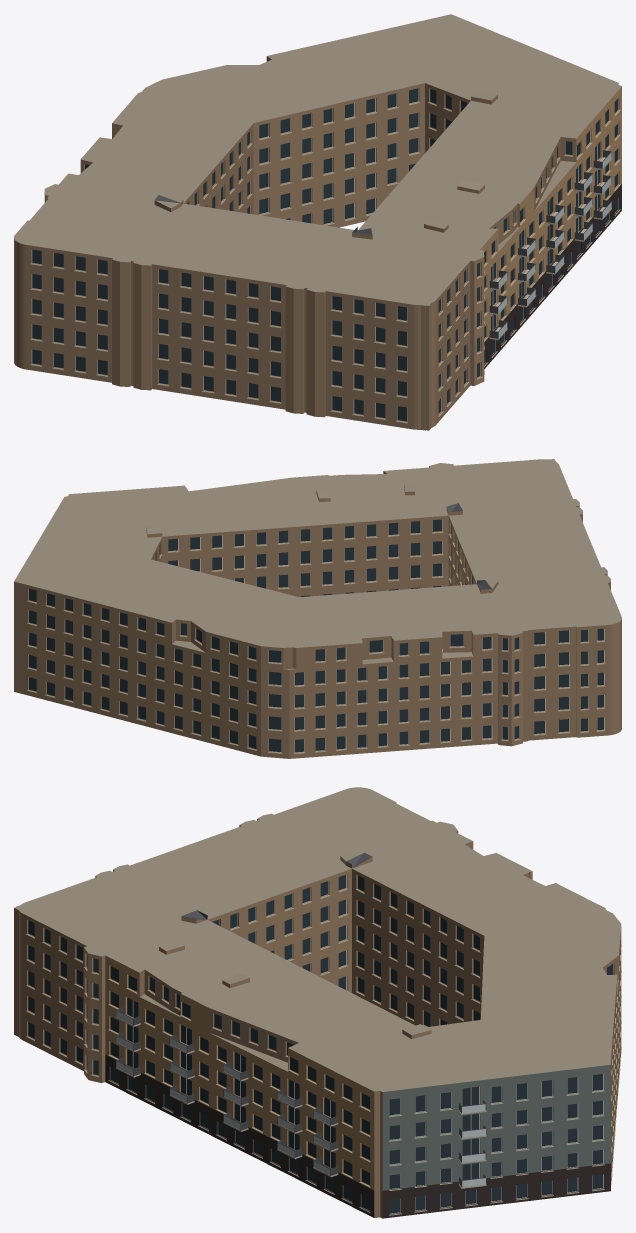
The model's file is recipe-large-revaleiland-58-250187.glb.
3 views of the same model, one above another, from view 1: azimuth 30°, elevation 25°; view 2: azimuth 150°, elevation 25°; view 3: azimuth 270°, elevation 25° (orthographic). The views are drawn at different scales.
Parts seen in each view (by area): view 1: revaleiland-58-250187; view 2: revaleiland-58-250187; view 3: revaleiland-58-250187.
Part boxes in pixels (left/top/right/bottom): revaleiland-58-250187: left=14, top=14, right=621, bottom=430; revaleiland-58-250187: left=14, top=459, right=621, bottom=758; revaleiland-58-250187: left=14, top=787, right=621, bottom=1218.
Size of the model in its own units: 93.26 by 18.78 by 78.69.
